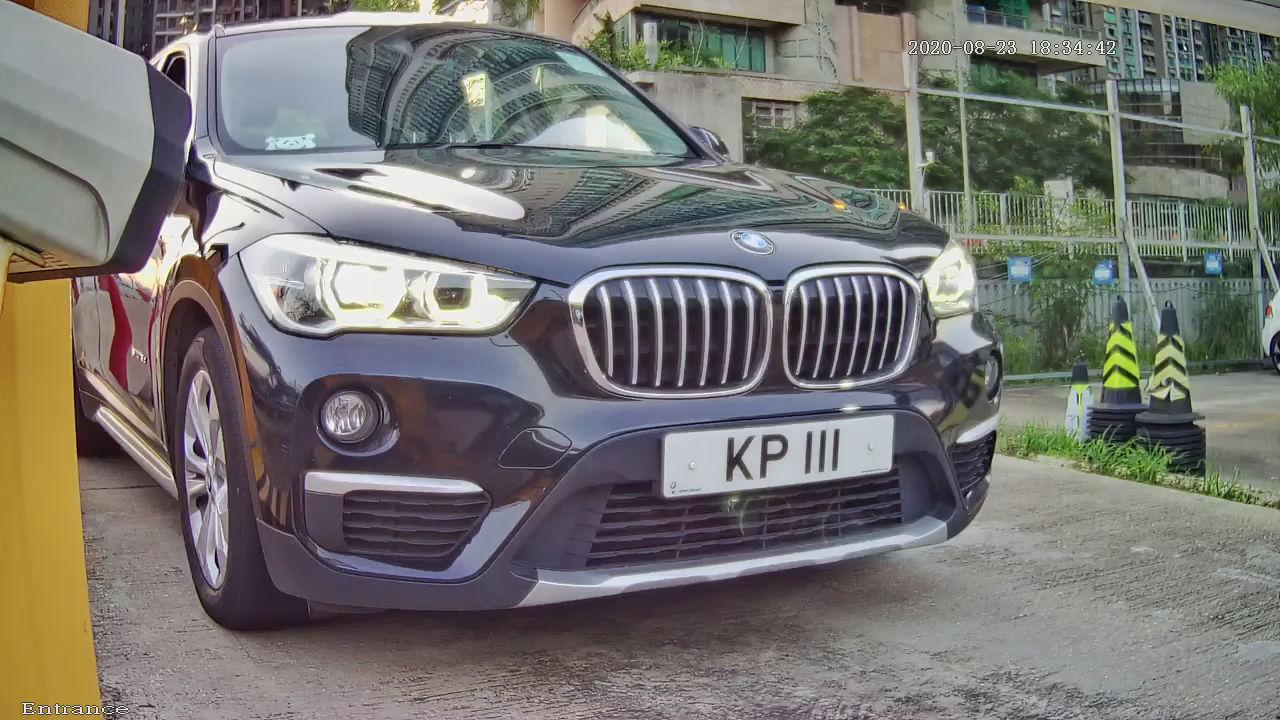Car: (30, 17, 1093, 659)
License Plate: (622, 378, 930, 534)
